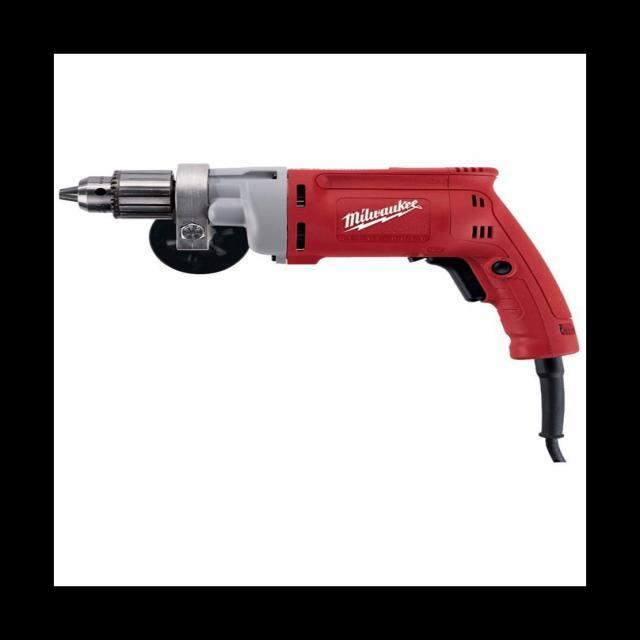drill: (59, 163, 581, 463)
